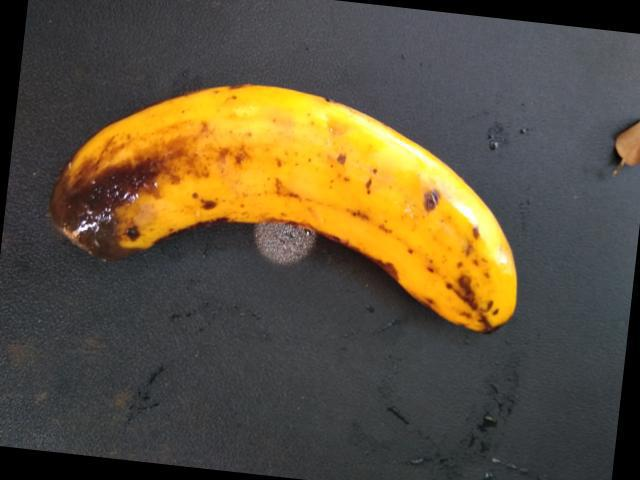overripe: (191, 72, 526, 341)
rotten: (35, 70, 242, 277)
